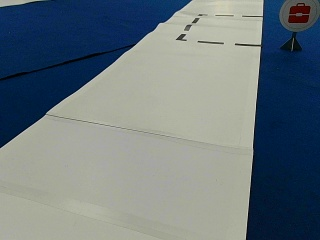company: (279, 0, 318, 30)
